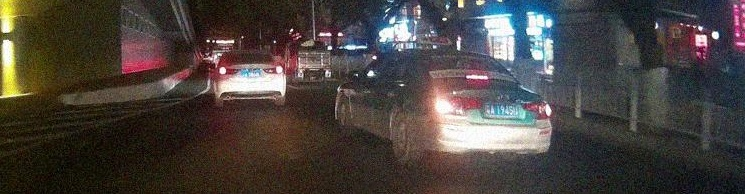L_light: (433, 97, 481, 113), (218, 67, 241, 74)
R_light: (521, 100, 552, 119), (262, 66, 283, 74)
T_light: (465, 74, 488, 80), (248, 53, 257, 56)
night-left: (404, 49, 552, 167)
night-no: (217, 51, 286, 107)
